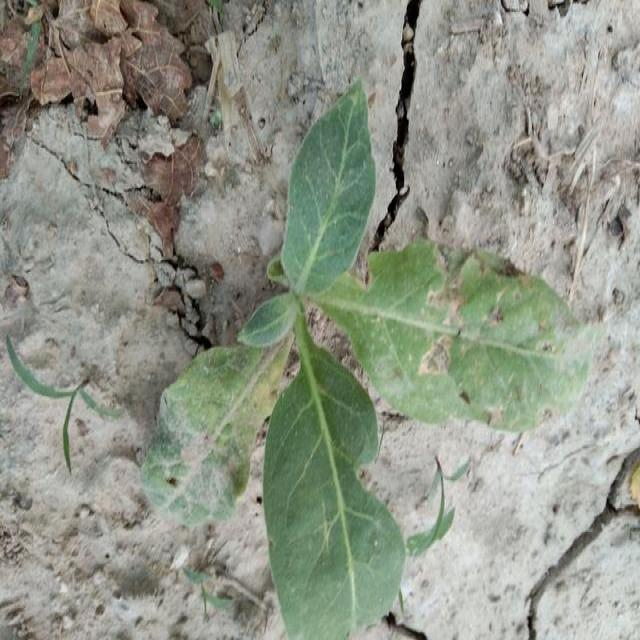crop: (151, 95, 567, 639)
